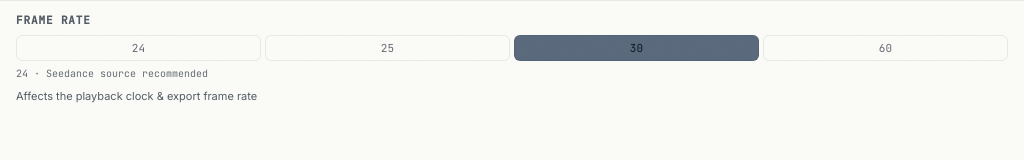
it: FpsSection (PRD-0011 F3) › submission failure renders an inline error row and leaves the highlighted value unchanged
Click the button "24" at (138, 48), box [16,35,261,61]
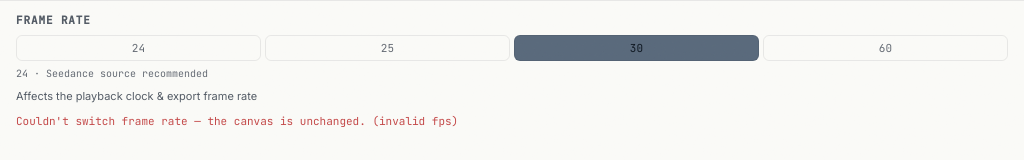
Result: the message shows "frame rate" at [16,114,458,128]
